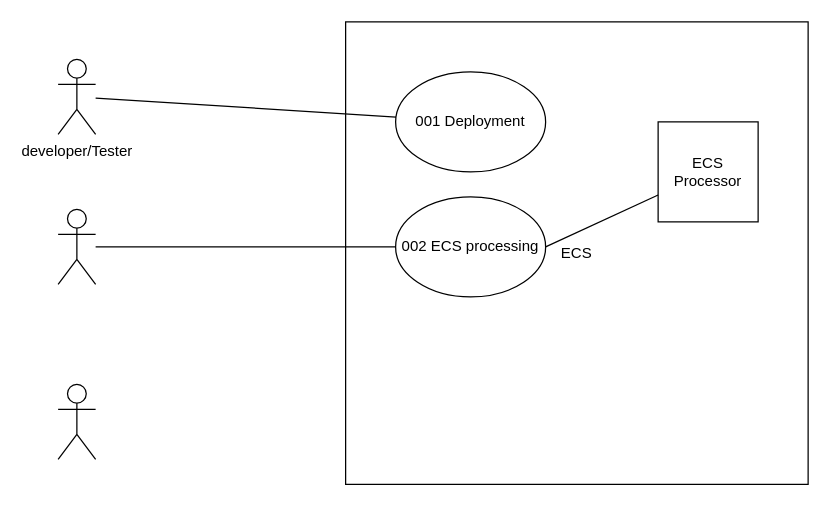
Image size: 830x508. Some labels were removed from this diagram. The shapes that lost their labels are listed below. From the top down, each one's centre as x and y in pixels, then its label:
At [76,246]: "Respondent".
At [76,421]: "Support Staff".
